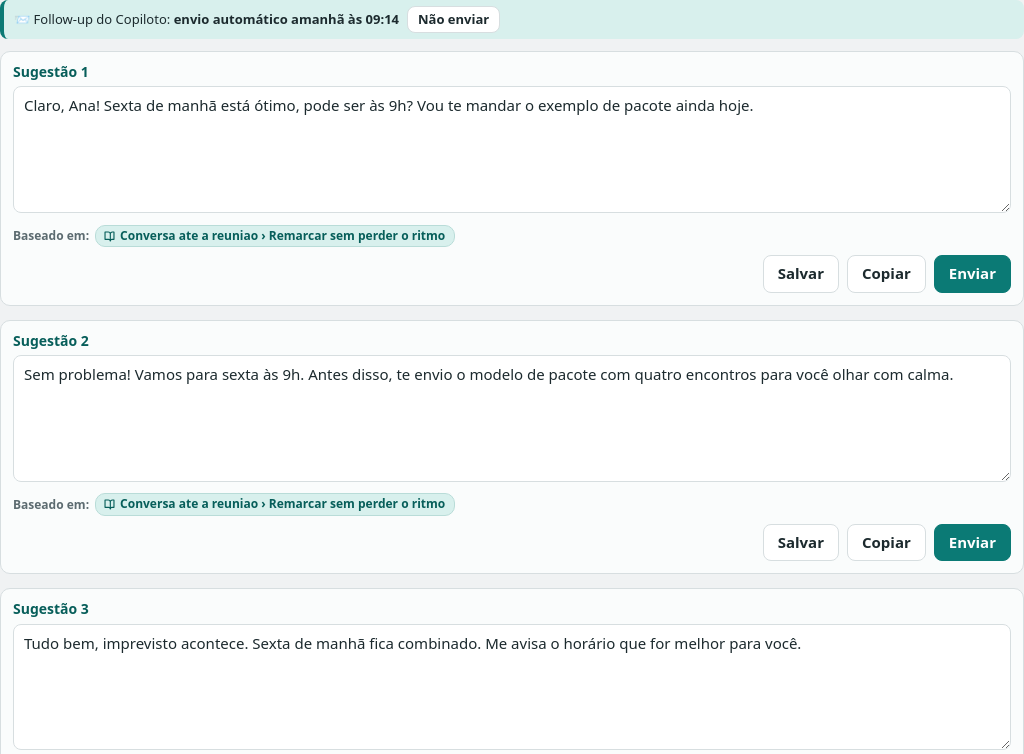
Follow-up com envio automático (v0.8.0) › agendado: linha de estado em vez do cartão, sem "Abrir para enviar"; "Não enviar" recusa
Expected: the message "Follow-up do Copiloto" reads "📨 Follow-up do Copiloto: envio automático amanhã às 09:14 Não enviar", [0,0,1023,39]
Click the button "Não enviar": (454, 19) [407,6,500,33]
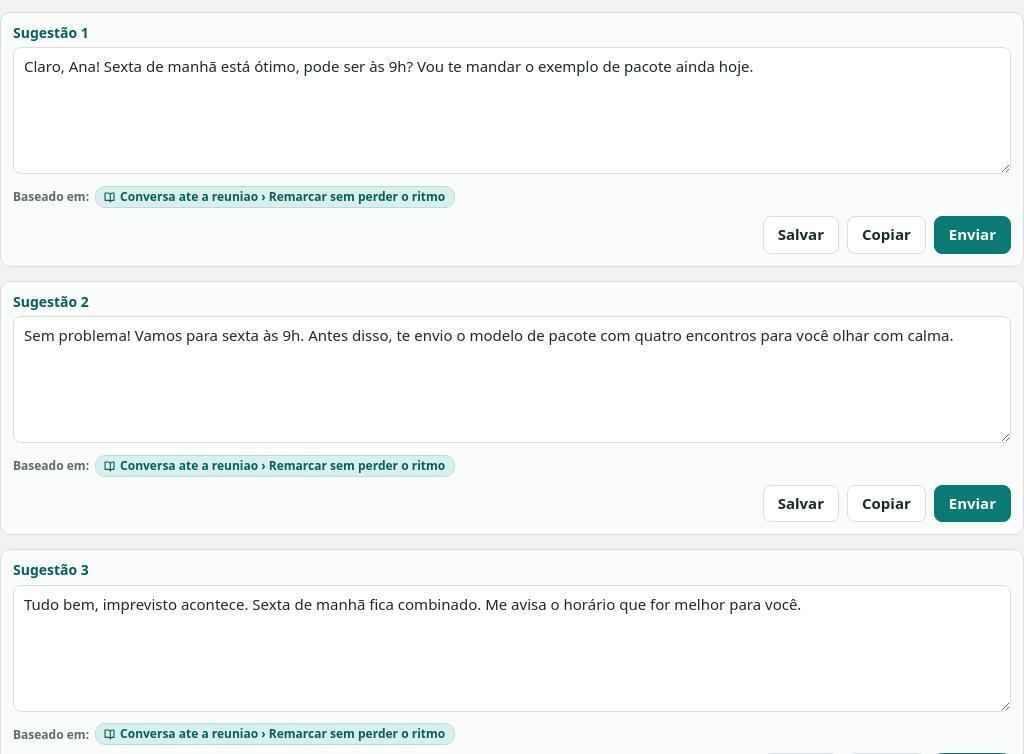
Now the message "Follow-up do Copiloto" is gone
